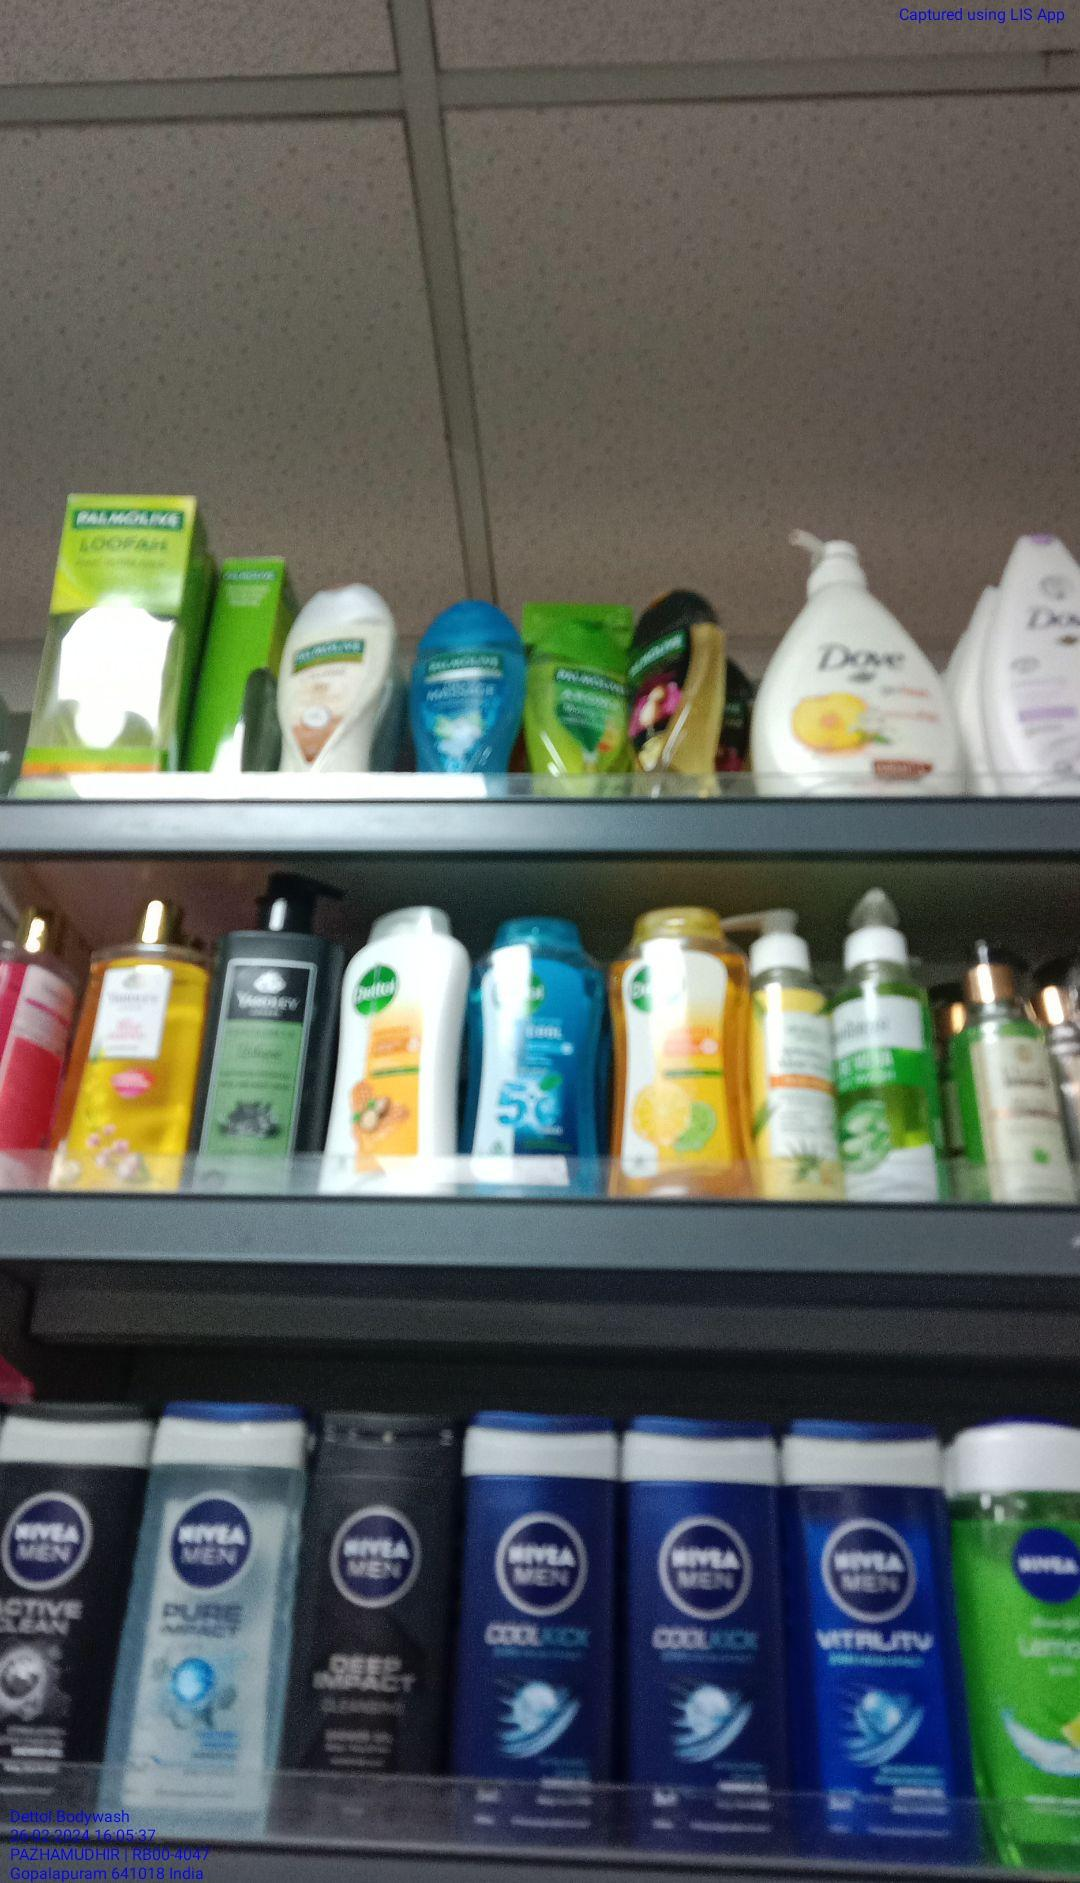Dettol_Bodywash_Cool: (476, 912, 603, 1192)
Dettol_Bodywash_Refresh: (610, 903, 749, 1195)
